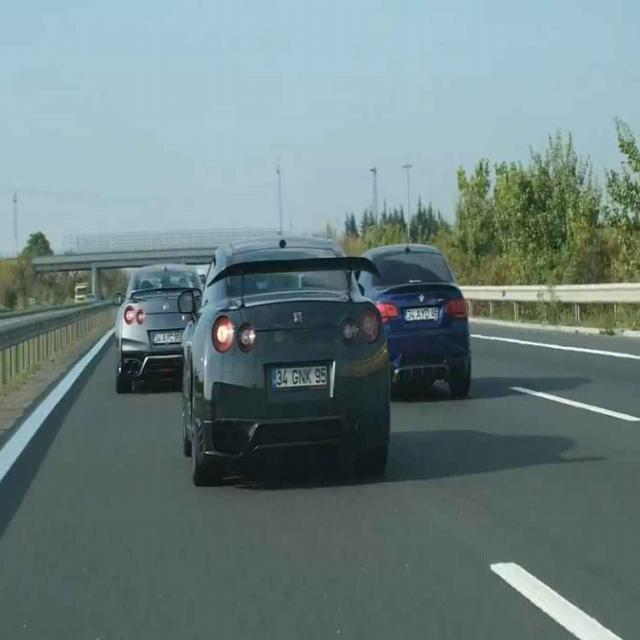plate: (271, 363, 329, 395), (403, 305, 440, 325), (152, 331, 183, 346)
